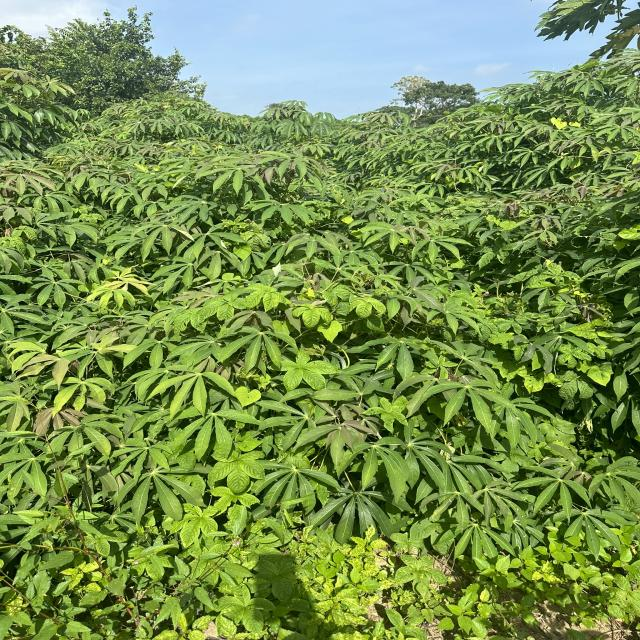Maleza: (164, 535, 397, 636), (340, 552, 589, 640), (507, 558, 640, 640), (85, 514, 192, 591), (196, 476, 264, 531), (213, 444, 269, 483), (271, 348, 328, 386), (330, 280, 382, 318), (245, 274, 288, 319), (290, 298, 341, 335), (194, 292, 244, 328), (160, 504, 216, 533), (555, 343, 604, 371), (525, 367, 565, 399), (367, 396, 400, 432), (497, 349, 529, 378), (235, 374, 259, 412)
